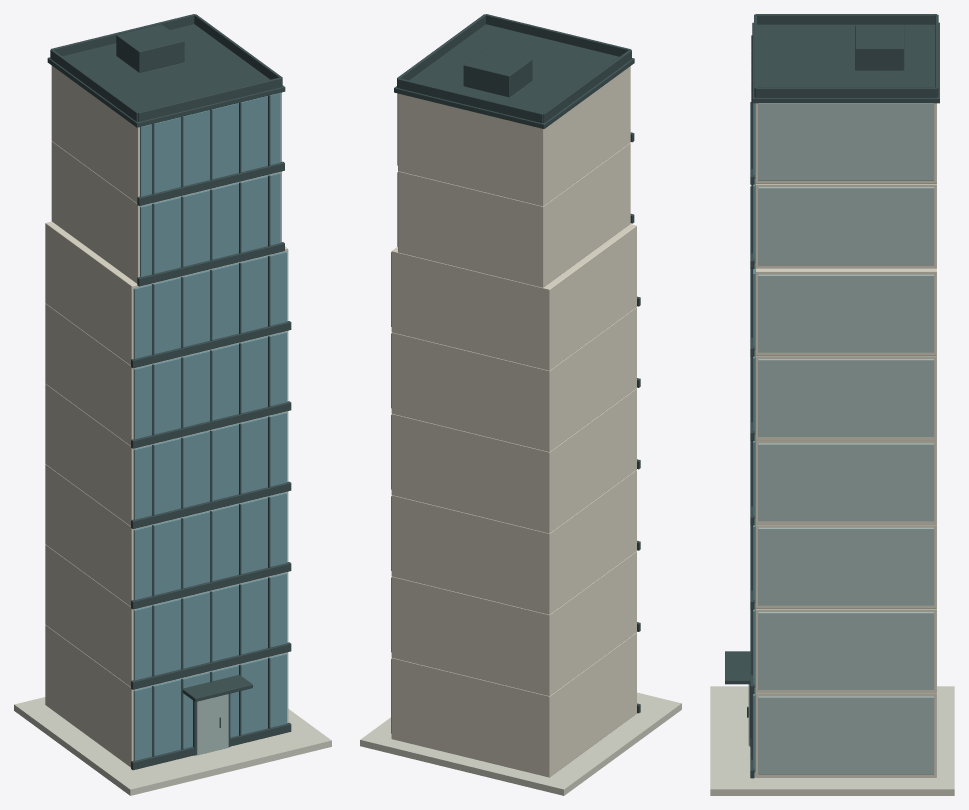
Rendered from large-2x2-slim-office-01.glb.
3 renders of one model, left to right at view 1: azimuth 30°, elevation 25°; view 2: azimuth 150°, elevation 25°; view 3: azimuth 270°, elevation 25°, orthographic. The views are drawn at different scales.
Visible parts, largest first — view 1: CurtainWall.004, CurtainWall.001, CurtainWall.003, CurtainWall.002, CurtainWall.005, CurtainWall.006, CurtainWall.007, RoofCap, LotPlinth, Storey_06, CurtainWall, Storey_07 (+21 smaller); view 2: Storey_06, Storey_01, Storey_02, Storey_04, Storey_03, Storey_05, Storey_07, Storey_08, RoofCap, LotPlinth, HVAC, RoofParapet.001 (+3 smaller); view 3: CurtainWallSide, CurtainWallSide.002, CurtainWallSide.003, CurtainWallSide.005, CurtainWallSide.006, CurtainWallSide.001, CurtainWallSide.004, CurtainWallSide.007, RoofCap, LotPlinth, Storey_06, HVAC (+10 smaller).
Part boxes in pixels (<box>): CurtainWall.004: <box>133,332,286,439</box>; CurtainWall.001: <box>133,573,286,680</box>; CurtainWall.003: <box>133,412,286,519</box>; CurtainWall.002: <box>133,492,286,599</box>; CurtainWall.005: <box>133,251,286,358</box>; CurtainWall.006: <box>140,172,280,276</box>; CurtainWall.007: <box>140,93,280,196</box>; RoofCap: <box>47,24,285,127</box>; LotPlinth: <box>14,697,331,795</box>; Storey_06: <box>45,221,287,365</box>; CurtainWall: <box>133,653,286,760</box>; Storey_07: <box>51,141,281,283</box>; Storey_06: <box>391,224,636,370</box>; Storey_01: <box>391,632,636,777</box>; Storey_02: <box>391,551,636,695</box>; Storey_04: <box>391,388,636,533</box>; Storey_03: <box>391,470,636,614</box>; Storey_05: <box>391,307,636,451</box>; Storey_07: <box>398,142,630,287</box>; Storey_08: <box>398,66,630,206</box>; RoofCap: <box>394,24,634,128</box>; LotPlinth: <box>360,692,681,795</box>; HVAC: <box>463,48,532,97</box>; RoofParapet.001: <box>397,78,543,123</box>; CurtainWallSide: <box>758,696,934,774</box>; CurtainWallSide.002: <box>758,527,934,605</box>; CurtainWallSide.003: <box>758,443,934,521</box>; CurtainWallSide.005: <box>758,274,934,352</box>; CurtainWallSide.006: <box>758,187,934,265</box>; CurtainWallSide.001: <box>758,612,934,689</box>; CurtainWallSide.004: <box>758,359,934,436</box>; CurtainWallSide.007: <box>758,103,934,180</box>; RoofCap: <box>752,22,939,103</box>; LotPlinth: <box>710,686,954,795</box>; Storey_06: <box>755,268,936,355</box>; HVAC: <box>855,25,904,70</box>.
Size of the model in its own units: 8 by 25.59 by 8.
